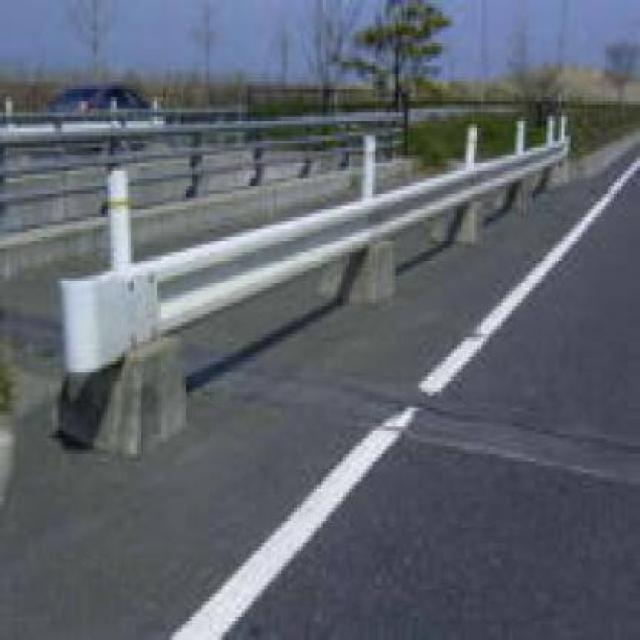Guard rail: (58, 116, 572, 442)
